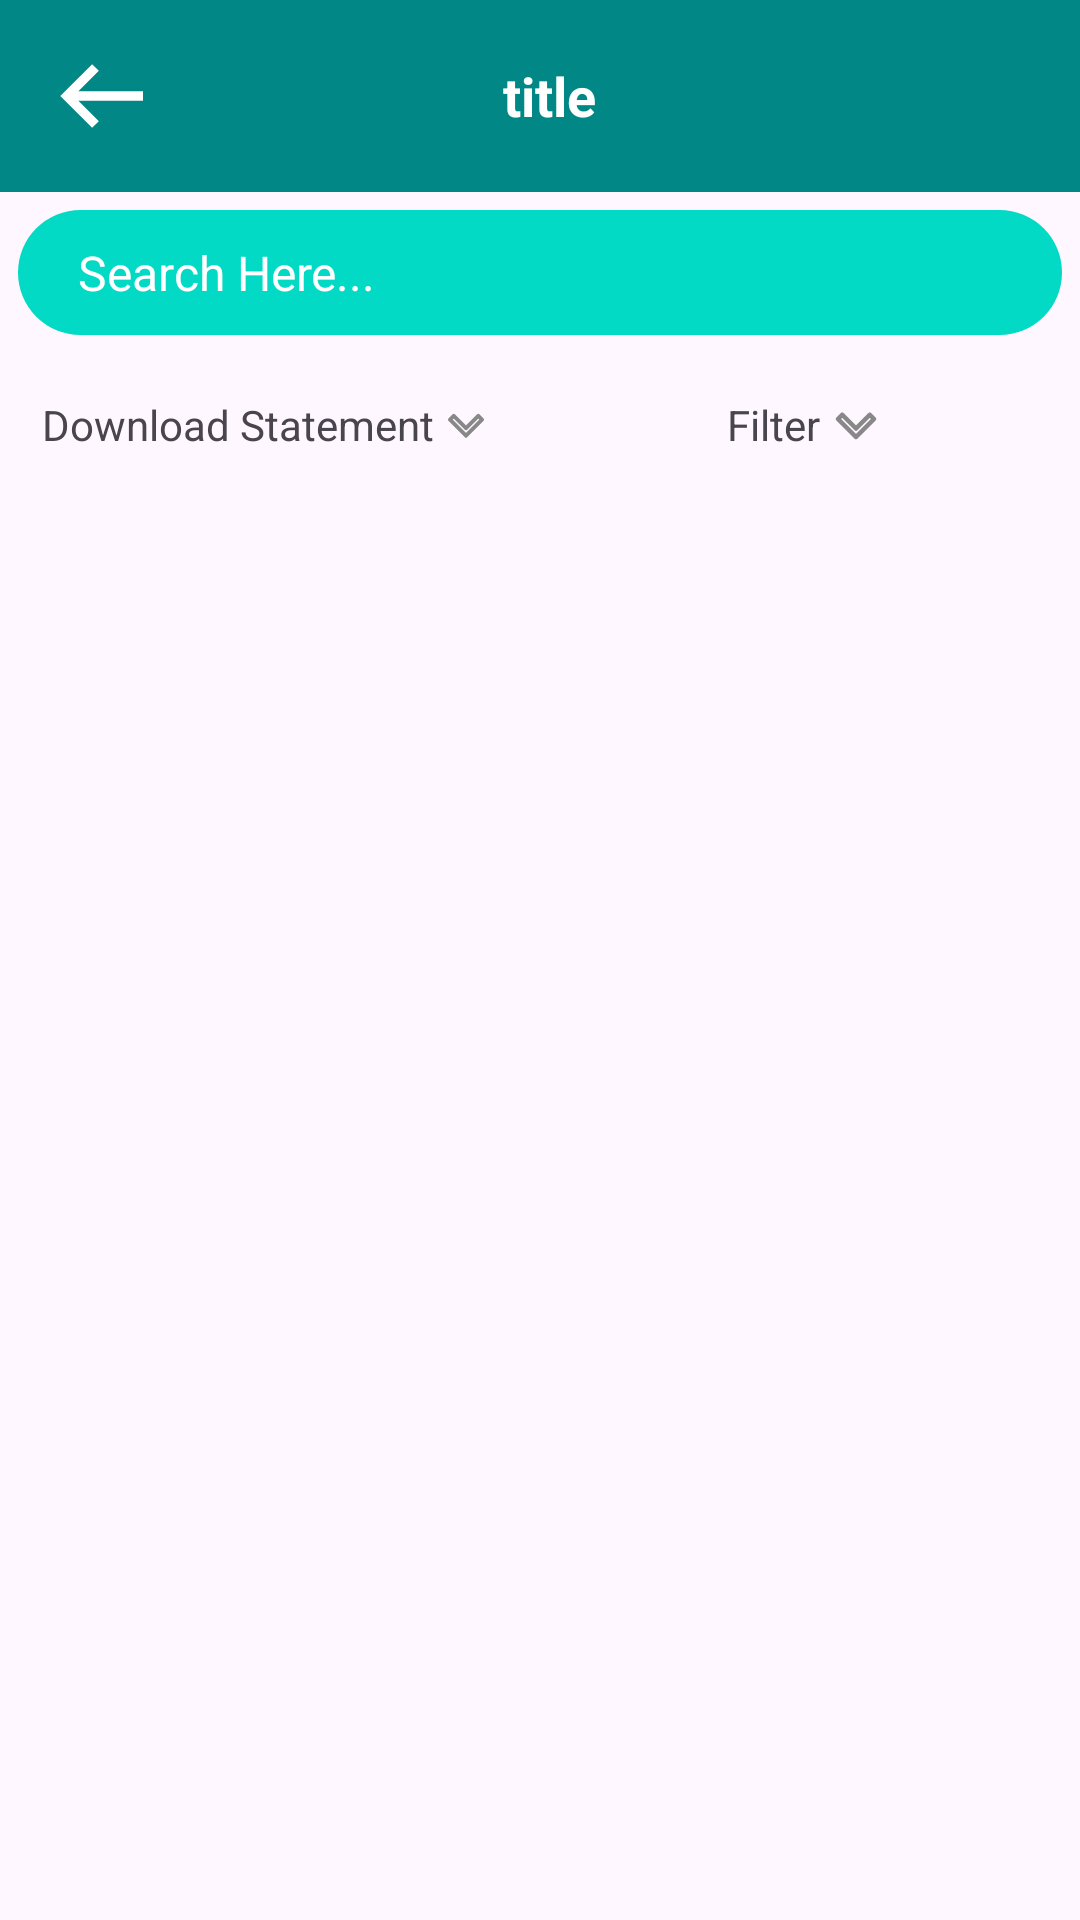

Where icons sit on this 1080 x 1920 app screen, as (x1, y1, x2, y2):
arrow down: (836, 412, 876, 440), (448, 414, 484, 438)
back: (60, 64, 143, 128)
